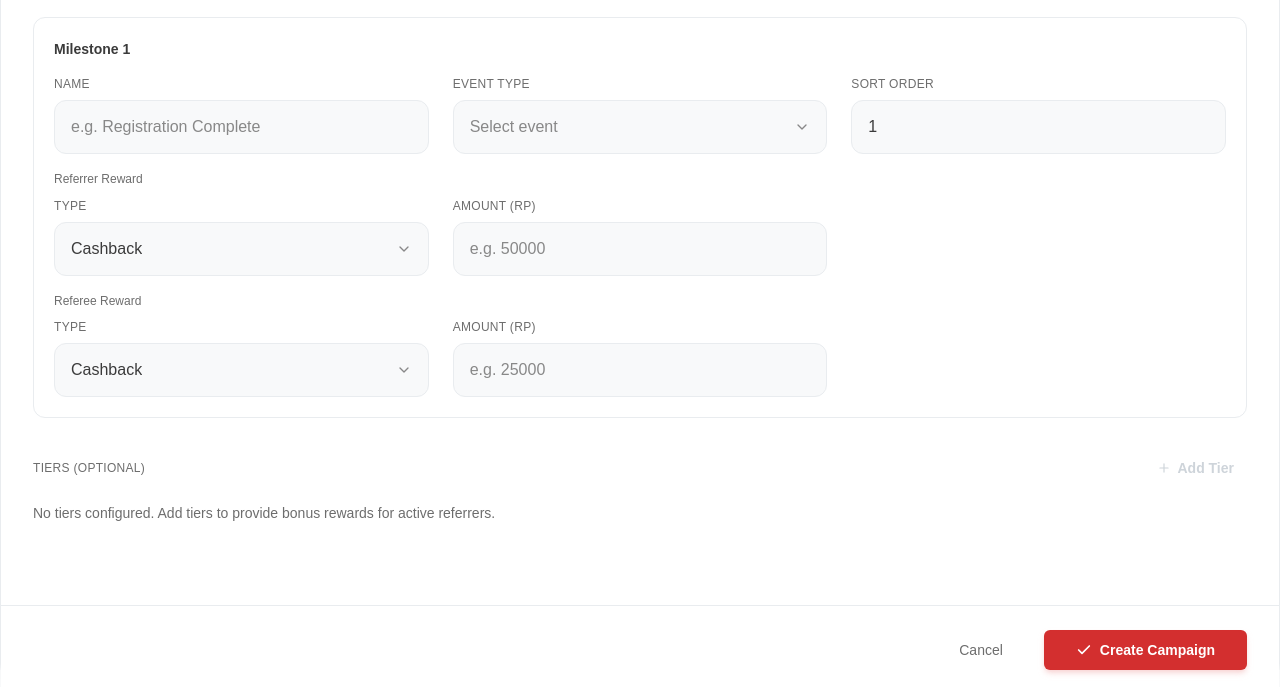
Campaign Create/Edit Form › tier repeater add/remove › adds a new tier when Add Tier is clicked
(page scrolled)
What coordinates should you click on to do the following:
click the button "Add Tier"
I would click on:
 (1196, 468)
Its box is x1=1144 y1=450 x2=1247 y2=486.
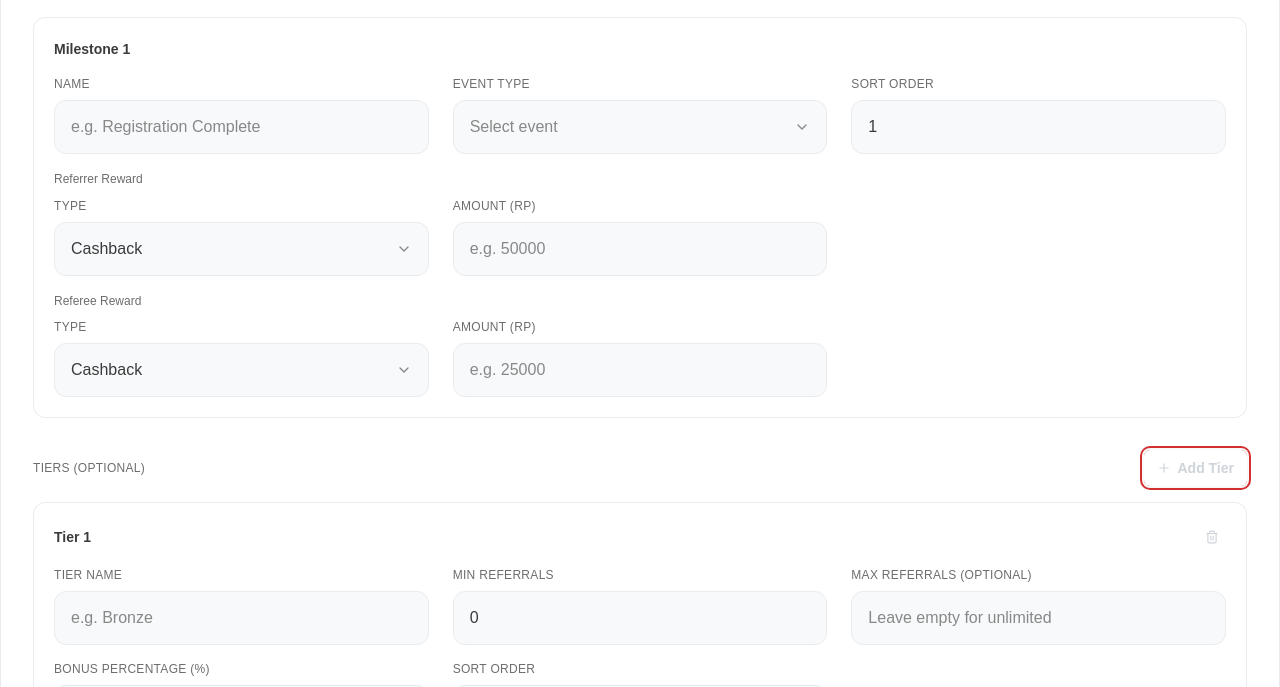
Check: the text "Tier 1" is shown, box x1=54 y1=526 x2=91 y2=549
